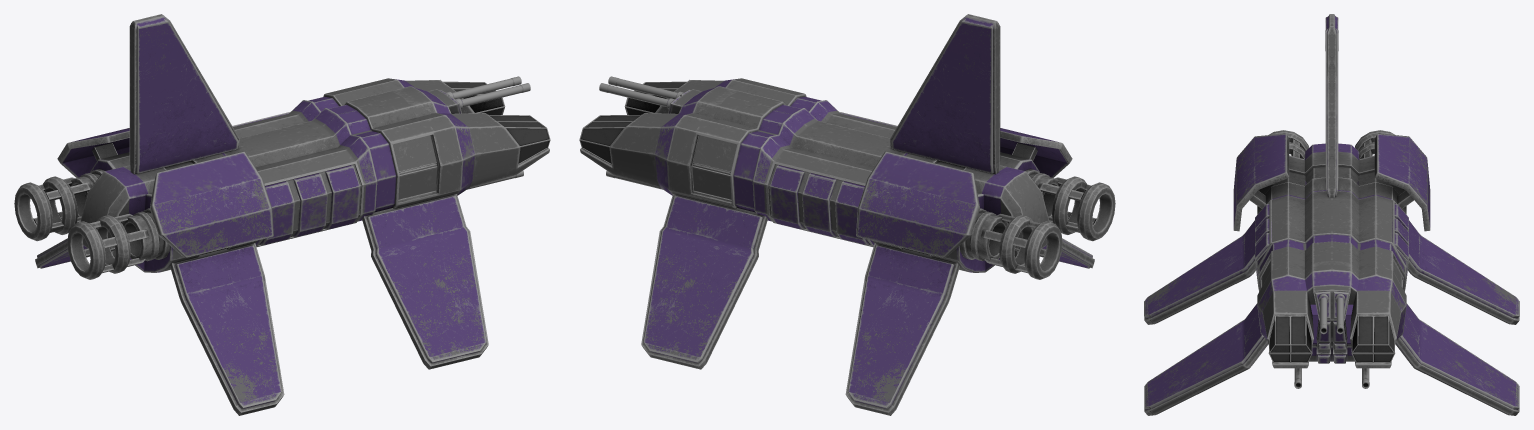
File: SM_Corruption_Zombie_Dropship.fbx
3 views of the same model, side by side, from view 1: azimuth 30°, elevation 25°; view 2: azimuth 150°, elevation 25°; view 3: azimuth 270°, elevation 25° (orthographic). The views are drawn at different scales.
Parts seen in each view (by area): view 1: Ship_model_Mesh, Ship_model_Doors; view 2: Ship_model_Mesh, Ship_model_Doors; view 3: Ship_model_Mesh, Ship_model_Doors, Ship_interior.
Boxes of the visible parts, <box> form: Ship_model_Mesh: <box>14,14,550,415</box>; Ship_model_Doors: <box>232,112,438,246</box>; Ship_model_Mesh: <box>579,14,1115,415</box>; Ship_model_Doors: <box>691,112,897,246</box>; Ship_model_Mesh: <box>1144,14,1519,415</box>; Ship_model_Doors: <box>1255,200,1408,288</box>; Ship_interior: <box>1271,181,1392,344</box>.
Size of the model in its own units: 2097 by 1591 by 1369.
